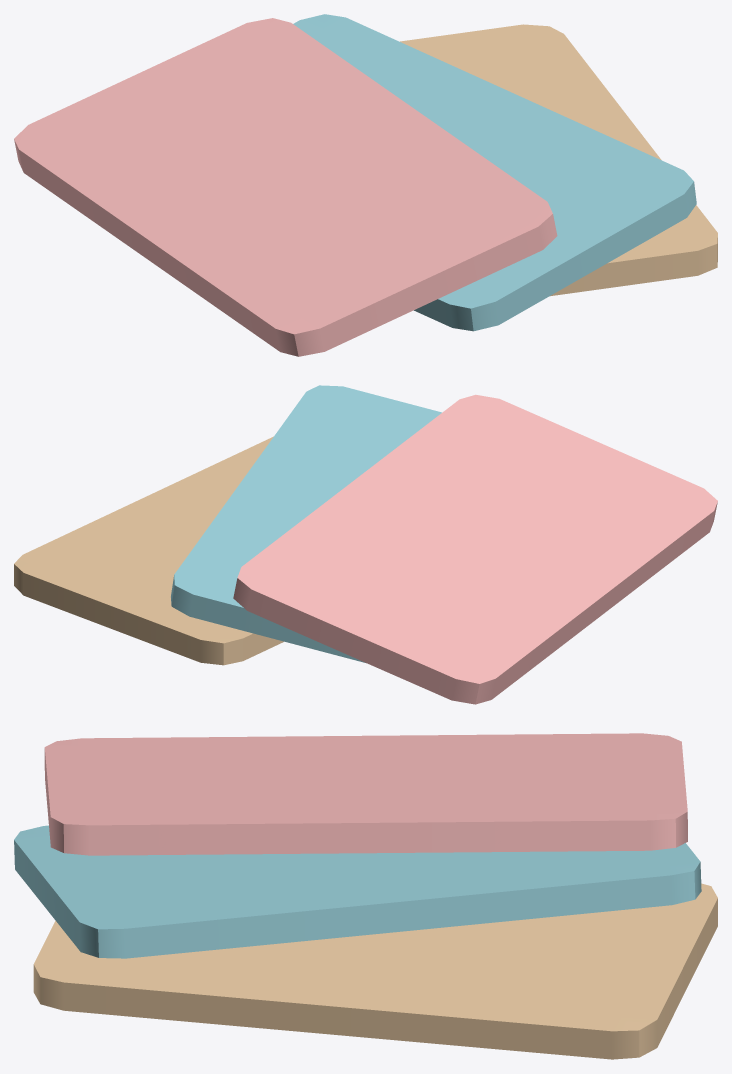
File: Plastic Panel.fbx
The picture shows the model from 3 angles, top to bottom: view 1: azimuth 30°, elevation 25°; view 2: azimuth 150°, elevation 25°; view 3: azimuth 270°, elevation 25°; orthographic projection. The views are drawn at different scales.
Visible parts, largest first — view 1: plastic_panel1; view 2: plastic_panel1; view 3: plastic_panel1.
Boxes of the visible parts, x1,y1,x2,y2 form: plastic_panel1: [14, 14, 717, 356]; plastic_panel1: [14, 385, 717, 704]; plastic_panel1: [14, 733, 717, 1059].
Size of the model in its own units: 1.49 by 0.2318 by 1.51.
